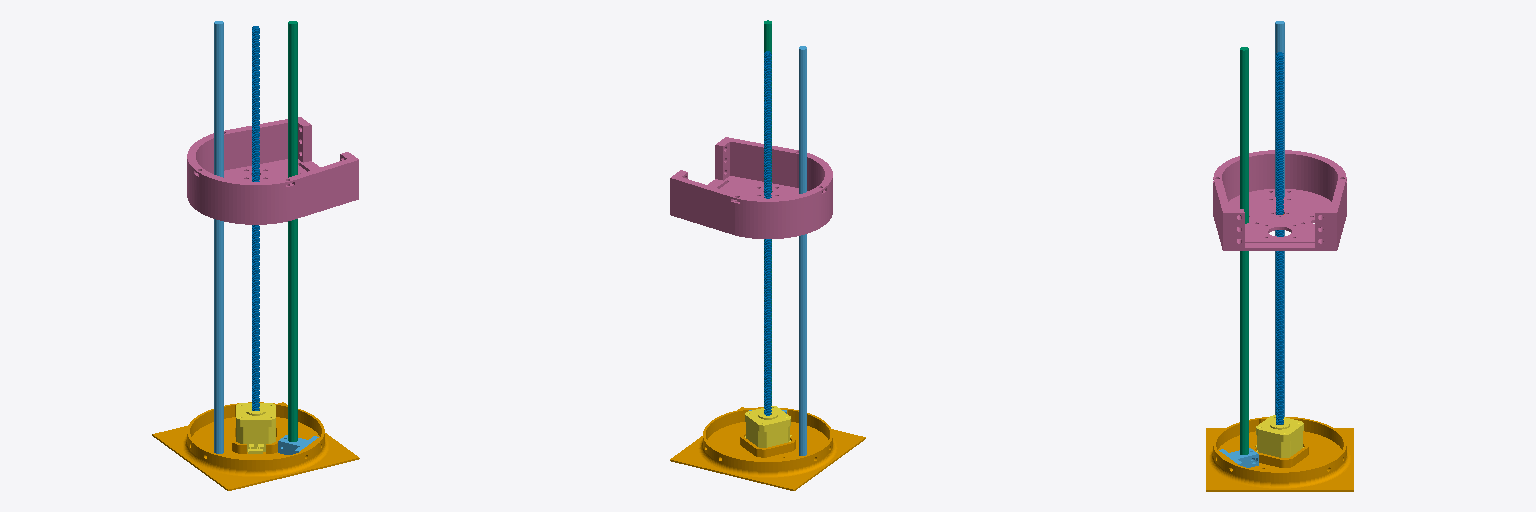
robot.urdf — Midnight:
<?xml version='1.0' encoding='utf-8'?>
<robot name="Midnight">
    <link name="base_link">
        <inertial>
            <origin xyz="6.762665199424807e-05 0.0001299776820545347 -0.0006295578999373331" rpy="0.0 0.0 0.0" />
            <mass value="1.0437162220010459" />
            <inertia ixx="0.001925738058525393" iyy="0.0019268726937290682" izz="0.003809703029132152" ixy="9.539006390208304e-07" iyz="-7.568500372874091e-07" ixz="-3.978816717346189e-07" />
        </inertial>
        <visual name="base_link_visual">
            <origin xyz="0.0 0.0 0.0" rpy="0.0 0.0 0.0" />
            <geometry>
                <mesh filename="meshes/base_link.stl" scale="0.001 0.001 0.001" />
            </geometry>
        </visual>
        <collision name="base_link_collision">
            <origin xyz="0.0 0.0 0.0" rpy="0.0 0.0 0.0" />
            <geometry>
                <mesh filename="meshes/base_link.stl" scale="0.001 0.001 0.001" />
            </geometry>
        </collision>
    </link>
    <link name="SHF10">
        <inertial>
            <origin xyz="0.016147319957664157 -4.4286796452297495e-15 -0.012436509990804234" rpy="0.0 -0.0 0.0" />
            <mass value="0.06685638565719092" />
            <inertia ixx="7.858500329390943e-06" iyy="1.1670723992972509e-05" izz="6.130639649220231e-06" ixy="-4.559171374459482e-18" iyz="-1.9131761473358588e-17" ixz="1.5329239587103736e-07" />
        </inertial>
        <visual name="SHF10_visual">
            <origin xyz="0.015999996861430468 6.661338147750939e-18 3.986211485340618e-09" rpy="-1.5707963267948966 2.331468351712825e-15 3.141592653589793" />
            <geometry>
                <mesh filename="meshes/SHF10.stl" scale="0.001 0.001 0.001" />
            </geometry>
        </visual>
        <collision name="SHF10_collision">
            <origin xyz="0.015999996861430468 6.661338147750939e-18 3.986211485340618e-09" rpy="-1.5707963267948966 2.331468351712825e-15 3.141592653589793" />
            <geometry>
                <mesh filename="meshes/SHF10.stl" scale="0.001 0.001 0.001" />
            </geometry>
        </collision>
    </link>
    <link name="Rod_Z1">
        <inertial>
            <origin xyz="-1.7493644444144253e-09 3.8071868013744844e-09 -0.25" rpy="0.0 -0.0 0.0" />
            <mass value="0.3082687791334984" />
            <inertia ixx="0.006424192911817474" iyy="0.006424192911817478" izz="3.853359739168743e-06" ixy="3.0240423564239923e-19" iyz="-4.336808689942018e-19" ixz="2.1684043449710081e-19" />
        </inertial>
        <visual name="Rod_Z1_visual">
            <origin xyz="-1.7493644444144253e-09 3.8071867924927004e-09 -4.692720030423863e-41" rpy="-3.141592653589793 3.718542035834347e-18 -0.5235987755982987" />
            <geometry>
                <mesh filename="meshes/Rod_Z1.stl" scale="0.001 0.001 0.001" />
            </geometry>
        </visual>
        <collision name="Rod_Z1_collision">
            <origin xyz="-1.7493644444144253e-09 3.8071867924927004e-09 -4.692720030423863e-41" rpy="-3.141592653589793 3.718542035834347e-18 -0.5235987755982987" />
            <geometry>
                <mesh filename="meshes/Rod_Z1.stl" scale="0.001 0.001 0.001" />
            </geometry>
        </collision>
    </link>
    <link name="Nema17Model">
        <inertial>
            <origin xyz="-6.79092881419401e-05 0.00011735446918365344 -0.018941090833119286" rpy="0.0 -0.0 0.0" />
            <mass value="0.48879467034854424" />
            <inertia ixx="0.00012711449104067728" iyy="0.00012634739993962755" izz="0.00013079171443647184" ixy="6.577477243978744e-07" iyz="-9.6539055908623e-07" ixz="5.526090981577923e-07" />
        </inertial>
        <visual name="Nema17Model_visual">
            <origin xyz="-1.7493643823091563e-09 6.36887167381698e-10 0.0" rpy="3.141592653589793 -0.0 -2.6179938779914944" />
            <geometry>
                <mesh filename="meshes/Nema17Model.stl" scale="0.001 0.001 0.001" />
            </geometry>
        </visual>
        <collision name="Nema17Model_collision">
            <origin xyz="-1.7493643823091563e-09 6.36887167381698e-10 0.0" rpy="3.141592653589793 -0.0 -2.6179938779914944" />
            <geometry>
                <mesh filename="meshes/Nema17Model.stl" scale="0.001 0.001 0.001" />
            </geometry>
        </collision>
    </link>
    <link name="LeadScrew">
        <inertial>
            <origin xyz="-4.17990284e-09 -4.00791366e-05 5.72232024e-09" rpy="0.0 -0.0 0.0" />
            <mass value="0.141670" />
            <inertia ixx="0.002606064175276598" iyy="9.275665305221631e-07" izz="0.002606064133210587" ixy="-3.6671238871535595e-10" iyz="-1.4108235761997124e-11" ixz="1.792583170654648e-10" />
        </inertial>
        <visual name="LeadScrew_visual">
            <origin xyz="-1.7493643823094274e-09 6.368871673814269e-10 -0.20999999999999985" rpy="1.5707963267948966 -0.0 0.5235987755982989" />
            <geometry>
                <mesh filename="meshes/LeadScrew.stl" scale="0.001 0.001 0.001" />
            </geometry>
        </visual>
        <collision name="LeadScrew_collision">
            <origin xyz="-1.7493643823094274e-09 6.368871673814269e-10 -0.20999999999999985" rpy="1.5707963267948966 -0.0 0.5235987755982989" />
            <geometry>
                <mesh filename="meshes/LeadScrew.stl" scale="0.001 0.001 0.001" />
            </geometry>
        </collision>
    </link>
    <link name="LeadScrewNut">
        <inertial>
            <origin xyz="-8.876212045158503e-07 -0.19958697187416058 1.8837564923111933e-07" rpy="0.0 -0.0 0.0" />
            <mass value="0.011769952647612249" />
            <inertia ixx="4.560030120898419e-07" iyy="5.928423361596318e-07" izz="4.5504817224679885e-07" ixy="-6.24481278361798e-11" iyz="-1.1681867407640002e-12" ixz="9.161424392919238e-10" />
        </inertial>
        <visual name="LeadScrewNut_visual">
            <origin xyz="-1.7493643933845525e-09 -0.19949999999999996 6.36887167381698e-10" rpy="-3.944304526105058e-31 -0.5235987755982987 -5.5511151231257765e-17" />
            <geometry>
                <mesh filename="meshes/LeadScrewNut.stl" scale="0.001 0.001 0.001" />
            </geometry>
        </visual>
        <collision name="LeadScrewNut_collision">
            <origin xyz="-1.7493643933845525e-09 -0.19949999999999996 6.36887167381698e-10" rpy="-3.944304526105058e-31 -0.5235987755982987 -5.5511151231257765e-17" />
            <geometry>
                <mesh filename="meshes/LeadScrewNut.stl" scale="0.001 0.001 0.001" />
            </geometry>
        </collision>
    </link>
    <link name="Arm1-Piece1">
        <inertial>
            <origin xyz="0.006144777189445022 0.0174682107474354 -4.02572507331337e-05" rpy="0.0 -0.0 0.0" />
            <mass value="1.836374931461854" />
            <inertia ixx="0.005034357348021294" iyy="0.009303784026221774" izz="0.005052961990444775" ixy="7.49863657968667e-05" iyz="2.1288705668625051e-07" ixz="5.001230649482783e-06" />
        </inertial>
        <visual name="Arm1-Piece1_visual">
            <origin xyz="-1.7493644924990625e-09 -0.3175206565856938 6.36887252558789e-10" rpy="-1.5707963267948966 1.3473223296916059e-61 2.1895288505075245e-47" />
            <geometry>
                <mesh filename="meshes/Arm1-Piece1.stl" scale="0.001 0.001 0.001" />
            </geometry>
        </visual>
        <collision name="Arm1-Piece1_collision">
            <origin xyz="-1.7493644924990625e-09 -0.3175206565856938 6.36887252558789e-10" rpy="-1.5707963267948966 1.3473223296916059e-61 2.1895288505075245e-47" />
            <geometry>
                <mesh filename="meshes/Arm1-Piece1.stl" scale="0.001 0.001 0.001" />
            </geometry>
        </collision>
    </link>
    <link name="SHF10B">
        <inertial>
            <origin xyz="-0.016147324341941726 4.3931525084417445e-15 -0.012436512554476266" rpy="0.0 -0.0 0.0" />
            <mass value="0.06685638565719092" />
            <inertia ixx="7.858500329390936e-06" iyy="1.1670723992972509e-05" izz="6.130639649220256e-06" ixy="-4.5592135311836885e-18" iyz="1.9130337802424514e-17" ixz="-1.5329239587103736e-07" />
        </inertial>
        <visual name="SHF10B_visual">
            <origin xyz="-0.01600000124570806 -4.218847493575595e-17 1.4225394640021705e-09" rpy="-1.5707963267948966 -5.5511151231257716e-17 0.0" />
            <geometry>
                <mesh filename="meshes/SHF10B.stl" scale="0.001 0.001 0.001" />
            </geometry>
        </visual>
        <collision name="SHF10B_collision">
            <origin xyz="-0.01600000124570806 -4.218847493575595e-17 1.4225394640021705e-09" rpy="-1.5707963267948966 -5.5511151231257716e-17 0.0" />
            <geometry>
                <mesh filename="meshes/SHF10B.stl" scale="0.001 0.001 0.001" />
            </geometry>
        </collision>
    </link>
    <link name="SHF10C">
        <inertial>
            <origin xyz="4.179989687713714e-15 0.01614732245934657 -0.012436512227651263" rpy="0.0 -0.0 0.0" />
            <mass value="0.06685638565719092" />
            <inertia ixx="1.1670723992972563e-05" iyy="7.858500329390892e-06" izz="6.1306396492202425e-06" ixy="4.5605047973559435e-18" iyz="1.5329239587103447e-07" ixz="1.9136168344369156e-17" />
        </inertial>
        <visual name="SHF10C_visual">
            <origin xyz="-2.5535129566378603e-16 0.01599999936311288 1.7493644488553173e-09" rpy="-1.5707963267948966 2.192690473634683e-15 -1.5707963267948966" />
            <geometry>
                <mesh filename="meshes/SHF10C.stl" scale="0.001 0.001 0.001" />
            </geometry>
        </visual>
        <collision name="SHF10C_collision">
            <origin xyz="-2.5535129566378603e-16 0.01599999936311288 1.7493644488553173e-09" rpy="-1.5707963267948966 2.192690473634683e-15 -1.5707963267948966" />
            <geometry>
                <mesh filename="meshes/SHF10C.stl" scale="0.001 0.001 0.001" />
            </geometry>
        </collision>
    </link>
    <link name="Rod_Z2">
        <inertial>
            <origin xyz="-1.7493644310917489e-09 6.368870732477417e-10 -0.24999999999999975" rpy="0.0 -0.0 -2.698802673467014e-79" />
            <mass value="0.3082687791334984" />
            <inertia ixx="0.0064241929118174675" iyy="0.0064241929118174675" izz="3.853359739168743e-06" ixy="1.1047544549438127e-49" iyz="-3.9310269686480045e-19" ixz="-4.336808689942017e-19" />
        </inertial>
        <visual name="Rod_Z2_visual">
            <origin xyz="-1.7493644310917489e-09 6.368870885558632e-10 2.486899575160351e-16" rpy="3.141592653589793 -9.525303311966302e-32 -1.354302016439706e-15" />
            <geometry>
                <mesh filename="meshes/Rod_Z2.stl" scale="0.001 0.001 0.001" />
            </geometry>
        </visual>
        <collision name="Rod_Z2_collision">
            <origin xyz="-1.7493644310917489e-09 6.368870885558632e-10 2.486899575160351e-16" rpy="3.141592653589793 -9.525303311966302e-32 -1.354302016439706e-15" />
            <geometry>
                <mesh filename="meshes/Rod_Z2.stl" scale="0.001 0.001 0.001" />
            </geometry>
        </collision>
    </link>
    <link name="Rod_Z3">
        <inertial>
            <origin xyz="-1.7493644888233461e-09 -2.53341247091754e-09 -0.24999999999999997" rpy="0.0 -0.0 0.0" />
            <mass value="0.3082687791334984" />
            <inertia ixx="0.006424192911817462" iyy="0.006424192911817466" izz="3.853359739168635e-06" ixy="1.925929944387236e-34" iyz="-1.2037062152420224e-35" ixz="2.1684043449710086e-19" />
        </inertial>
        <visual name="Rod_Z3_visual">
            <origin xyz="-1.7493644888233461e-09 -2.53341247091754e-09 4.4408920985006264e-17" rpy="3.141592653589793 -0.0 0.5235987755983001" />
            <geometry>
                <mesh filename="meshes/Rod_Z3.stl" scale="0.001 0.001 0.001" />
            </geometry>
        </visual>
        <collision name="Rod_Z3_collision">
            <origin xyz="-1.7493644888233461e-09 -2.53341247091754e-09 4.4408920985006264e-17" rpy="3.141592653589793 -0.0 0.5235987755983001" />
            <geometry>
                <mesh filename="meshes/Rod_Z3.stl" scale="0.001 0.001 0.001" />
            </geometry>
        </collision>
    </link>
    <joint name="base_link_Rigid-1" type="fixed">
        <origin xyz="0.04635439 -0.04828964 0.006999999999999999" rpy="-1.5707963267948966 -0.0 -2.6179938779914966" />
        <parent link="base_link" />
        <child link="SHF10" />
    </joint>
    <joint name="SHF10_Rigid-5" type="fixed">
        <origin xyz="0.015999993442843138 0.006999999999999999 -0.01999999843622686" rpy="1.5707963267948966 -0.5235987755982964 3.141592653589793" />
        <parent link="SHF10" />
        <child link="Rod_Z1" />
    </joint>
    <joint name="base_link_Rigid-7" type="fixed">
        <origin xyz="-2.0100000000000002e-06 2.0100000000000002e-06 0.0" rpy="3.141592653589793 -0.0 0.0" />
        <parent link="base_link" />
        <child link="Nema17Model" />
    </joint>
    <joint name="Nema17Model_Revolute-8" type="continuous">
        <origin xyz="0.0 0.0 -0.0392" rpy="0.0 -0.0 0.0" />
        <parent link="Nema17Model" />
        <child link="LeadScrew" />
        <axis xyz="0.0 -0.0 1.0" />
    </joint>
    <joint name="LeadScrew_Slider-9" type="prismatic">
        <origin xyz="-2.710505431213761e-22 -2.710505431213761e-22 -0.445" rpy="-1.5707963267948966 5.551115123125783e-17 0.0" />
        <parent link="LeadScrew" />
        <child link="LeadScrewNut" />
        <axis xyz="5.551115123125783e-17 0.9999999999999998 0.0" />
        <limit lower="-0.06" upper="0.1" effort="1000000" velocity="1000000" />
    </joint>
    <joint name="LeadScrewNut_Rigid-10" type="fixed">
        <origin xyz="-1.089433447967747e-17 -0.19625 0.0" rpy="0.0 -0.0 -5.551115123125784e-17" />
        <parent link="LeadScrewNut" />
        <child link="Arm1-Piece1" />
    </joint>
    <joint name="base_link_Rigid-11" type="fixed">
        <origin xyz="0.01864158 0.06429366 0.006999999999999999" rpy="1.5707963267948966 -0.0 2.617993877991493" />
        <parent link="base_link" />
        <child link="SHF10B" />
    </joint>
    <joint name="base_link_Rigid-12" type="fixed">
        <origin xyz="-0.06500201 -0.01599799 0.006999999999999999" rpy="-7.771561172376096e-16 -1.5707963267948966 0" />
        <parent link="base_link" />
        <child link="SHF10C" />
    </joint>
    <joint name="SHF10C_Rigid-13" type="fixed">
        <origin xyz="-0.006999999999999999 0.016000000000000018 -0.01999999999999999" rpy="-3.141592653589793 1.570796326794896 0" />
        <parent link="SHF10C" />
        <child link="Rod_Z2" />
    </joint>
    <joint name="SHF10B_Rigid-14" type="fixed">
        <origin xyz="-0.016000004027408376 -0.006999999999999999 -0.019999999896777892" rpy="-1.5707963267948966 -0.5235987755983003 3.141592653589793" />
        <parent link="SHF10B" />
        <child link="Rod_Z3" />
    </joint>
</robot>

--- Render facts (derived) ---
Views: 3 orthographic renders of the robot side by side, from view 1: azimuth 30°, elevation 25°; view 2: azimuth 150°, elevation 25°; view 3: azimuth 270°, elevation 25°.
Robot: Midnight — 11 links, 10 joints (1 continuous, 1 prismatic, 8 fixed); root link base_link; default pose: every joint at zero.
Links seen in each view (by area): view 1: Arm1-Piece1, base_link, Rod_Z2, Rod_Z1, LeadScrew, Nema17Model; view 2: Arm1-Piece1, base_link, Rod_Z2, LeadScrew, Nema17Model; view 3: Arm1-Piece1, base_link, Rod_Z1, LeadScrew, Nema17Model, Rod_Z2.
Link boxes in pixels (bbox=[...]): Arm1-Piece1: bbox=[187, 117, 358, 224]; base_link: bbox=[152, 402, 359, 490]; Rod_Z2: bbox=[214, 21, 223, 453]; Rod_Z1: bbox=[288, 21, 297, 441]; LeadScrew: bbox=[252, 26, 259, 410]; Nema17Model: bbox=[236, 403, 275, 453]; Arm1-Piece1: bbox=[670, 137, 832, 238]; base_link: bbox=[670, 407, 865, 490]; Rod_Z2: bbox=[799, 46, 806, 455]; LeadScrew: bbox=[764, 51, 771, 415]; Nema17Model: bbox=[745, 406, 791, 447]; Arm1-Piece1: bbox=[1213, 150, 1346, 250]; base_link: bbox=[1206, 417, 1353, 491]; Rod_Z1: bbox=[1240, 47, 1248, 454]; LeadScrew: bbox=[1276, 52, 1283, 424]; Nema17Model: bbox=[1255, 415, 1303, 457]; Rod_Z2: bbox=[1275, 21, 1284, 416].
Bounding box of the posed robot: 0.17 × 0.16 × 0.505 m (x, y, z).
Meshes: 11 distinct files referenced, 8 mesh visuals loaded (8 binary STL); not drawn: 3 (reference not matched to a file when rendering).
